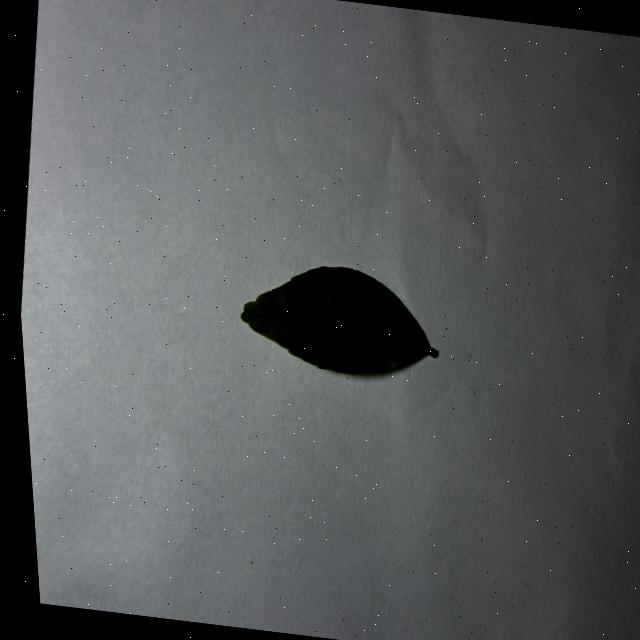greening: (240, 266, 436, 374)
